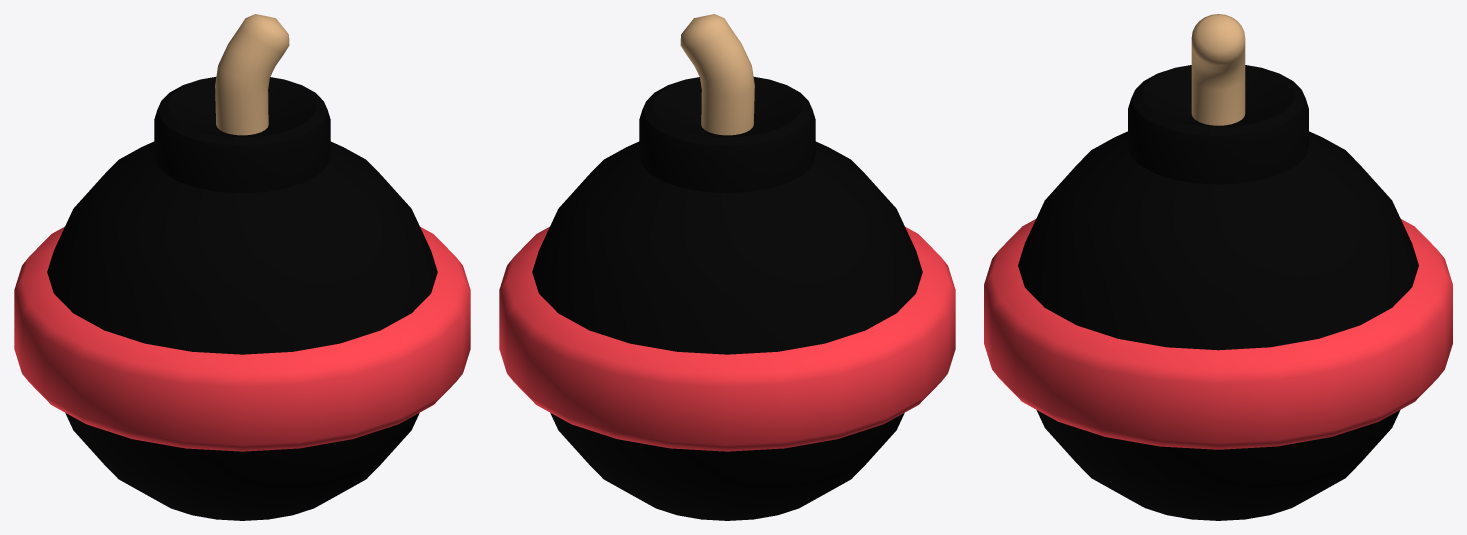
Rendered from bomb_teamRed.glb.
3 renders of one model, left to right at view 1: azimuth 30°, elevation 25°; view 2: azimuth 150°, elevation 25°; view 3: azimuth 270°, elevation 25°, orthographic. The views are drawn at different scales.
Parts seen in each view (by area): view 1: bomb_teamRed; view 2: bomb_teamRed; view 3: bomb_teamRed.
Boxes of the visible parts, x1,y1,x2,y2 form: bomb_teamRed: [14, 14, 470, 520]; bomb_teamRed: [499, 14, 955, 520]; bomb_teamRed: [984, 14, 1452, 520].
Bounding box in the file's own units: 0.3342 × 0.3892 × 0.3342.
